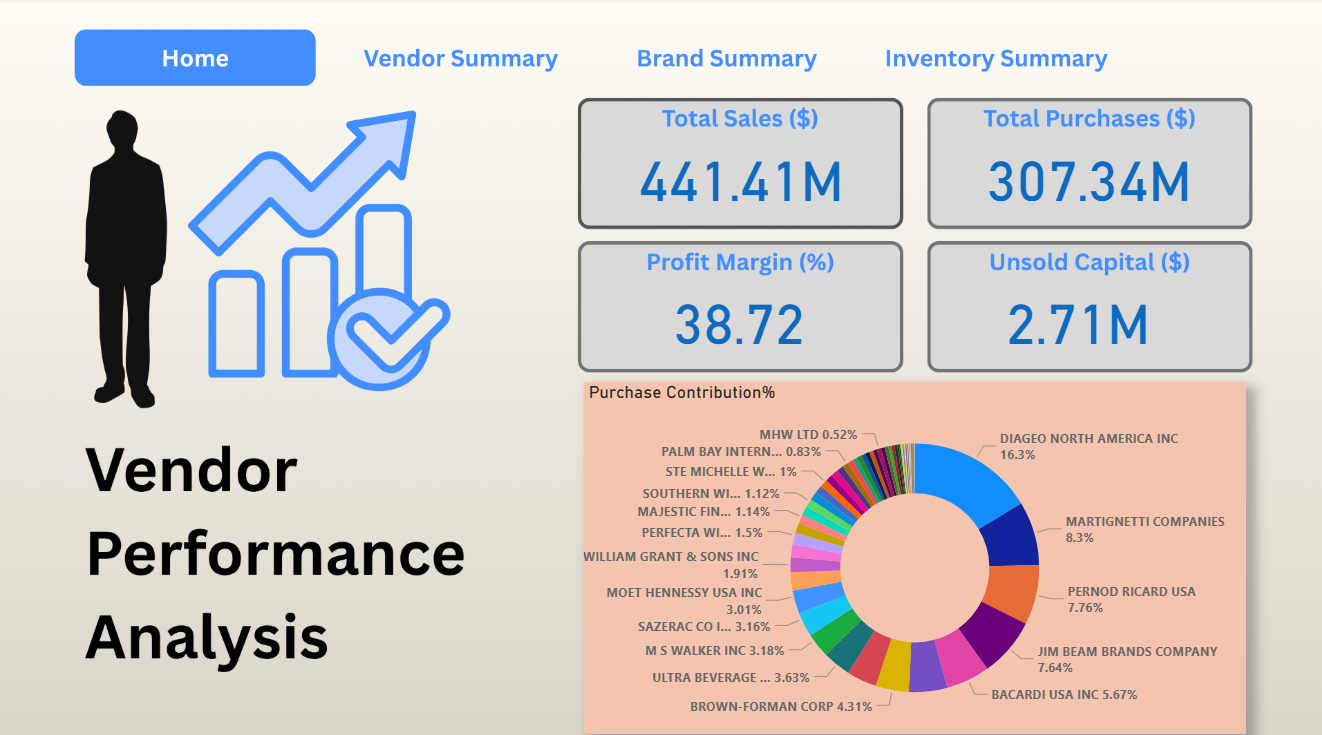

The page's visual inventory and layout, read from the dashboard file:
{"tool":"powerbi","page":{"name":"Home","canvas":[1280,720],"ordinal":0},"visuals":[{"type":"card","fields":{"Values":["Sum(vendor_sales_summary.TotalSalesDollars)"]},"box":[575,127.6,279.9,83.7],"z":0},{"type":"card","fields":{"Values":["Sum(vendor_sales_summary.TotalPurchaseDollars)"]},"box":[912.5,127.6,278.6,83.7],"z":1000},{"type":"card","fields":{"Values":["Avg(vendor_sales_summary.ProfitMargin)"]},"box":[564,264.8,300.5,85.1],"z":2000},{"type":"card","fields":{"Values":["Sum(vendor_sales_summary.UnsoldCapital)"]},"box":[890.6,264.8,300.5,85.1],"z":3000},{"type":"donutChart","title":"Purchase Contribution%","fields":{"Y":["Sum(PurchaseContribution.PurchaseContribution%)"],"Category":["PurchaseContribution.VendorName"]},"box":[564,370.5,639.5,340.3],"z":4000},{"type":"actionButton","box":[78.2,30.2,219.6,50.8],"z":5000},{"type":"actionButton","box":[344.4,35.7,199,39.8],"z":6000},{"type":"actionButton","box":[614.8,35.7,174.3,39.8],"z":7000},{"type":"actionButton","box":[854.9,35.7,211.3,39.8],"z":8000}]}

Visuals, with their boxes in screenshot pixels (x1, y1, x2, y2), scaled from the page's 1280x720 canvas onto the 1322x735 screenshot:
card - Sum(vendor_sales_summary.TotalSalesDollars): region(594, 130, 883, 216)
card - Sum(vendor_sales_summary.TotalPurchaseDollars): region(942, 130, 1230, 216)
card - Avg(vendor_sales_summary.ProfitMargin): region(583, 270, 893, 357)
card - Sum(vendor_sales_summary.UnsoldCapital): region(920, 270, 1230, 357)
"Purchase Contribution%" donutChart: region(583, 378, 1243, 726)
actionButton: region(81, 31, 308, 83)
actionButton: region(356, 36, 561, 77)
actionButton: region(635, 36, 815, 77)
actionButton: region(883, 36, 1101, 77)
